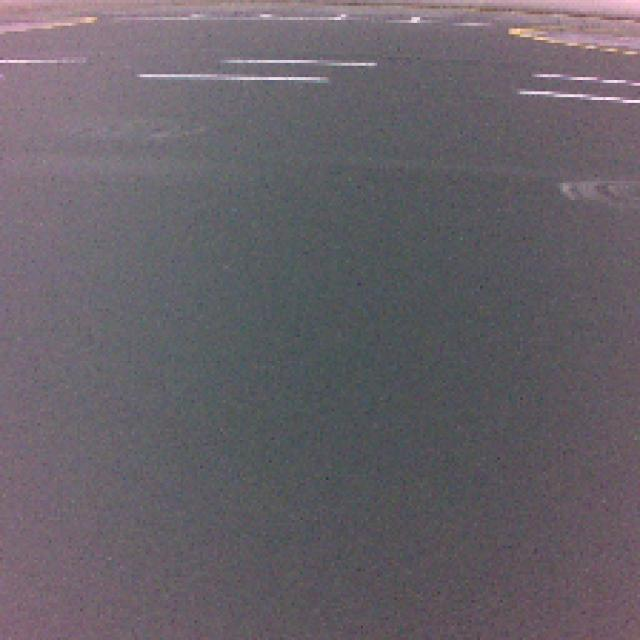Road: (0, 397, 639, 638)
